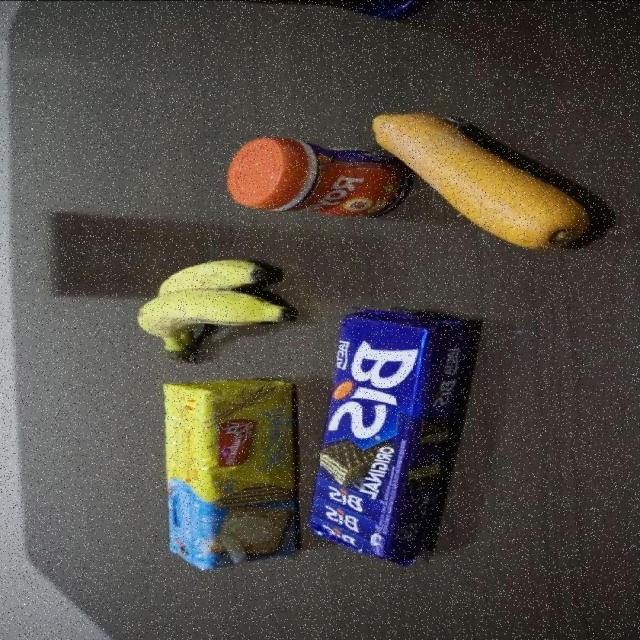Banana: (137, 258, 306, 364)
Carrot: (368, 110, 598, 252)
Cracker: (159, 377, 299, 572)
Ketchup: (212, 0, 440, 20)
Yeast: (223, 136, 412, 220)
